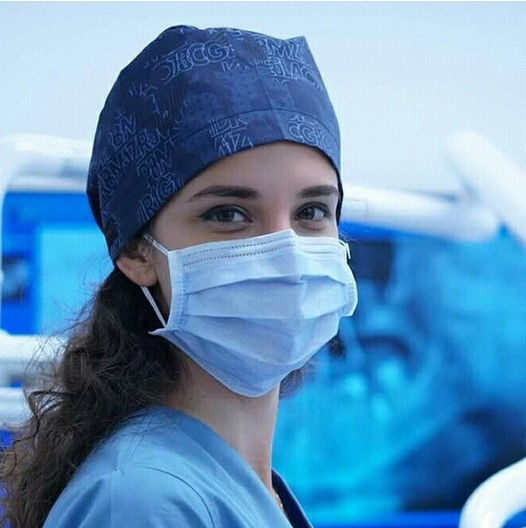face_with_mask: (86, 22, 361, 399)
